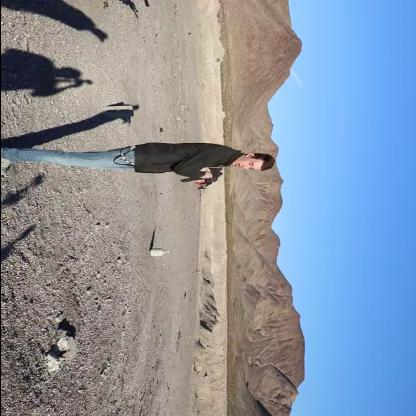long weapon: (178, 162, 228, 194)
